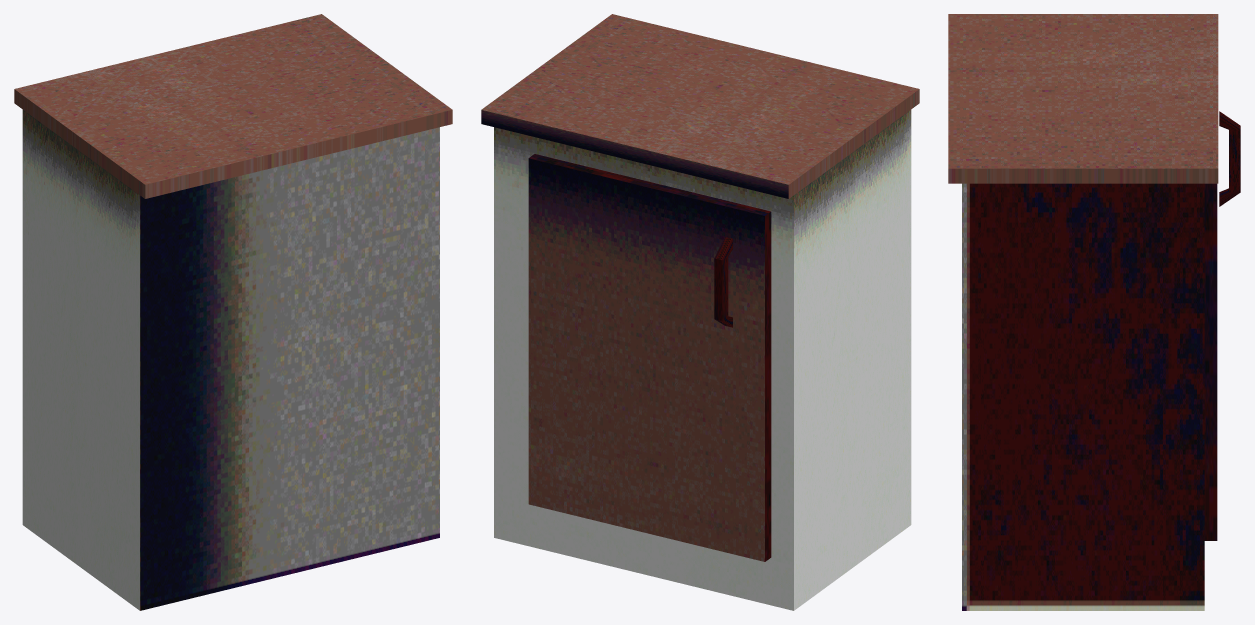
Rendered from FloorCabinet.fbx.
The picture shows the model from 3 angles, left to right: view 1: azimuth 30°, elevation 25°; view 2: azimuth 150°, elevation 25°; view 3: azimuth 270°, elevation 25°; orthographic projection. The views are drawn at different scales.
Visible parts, largest first — view 1: Cube.038; view 2: Cube.038; view 3: Cube.038.
Part boxes in pixels (bbox=[...]): Cube.038: bbox=[14, 14, 452, 610]; Cube.038: bbox=[481, 14, 919, 610]; Cube.038: bbox=[948, 14, 1240, 610].
Size of the model in its own units: 1.65 by 2.21 by 1.32.
Materials: 1 (1 with a texture image).
